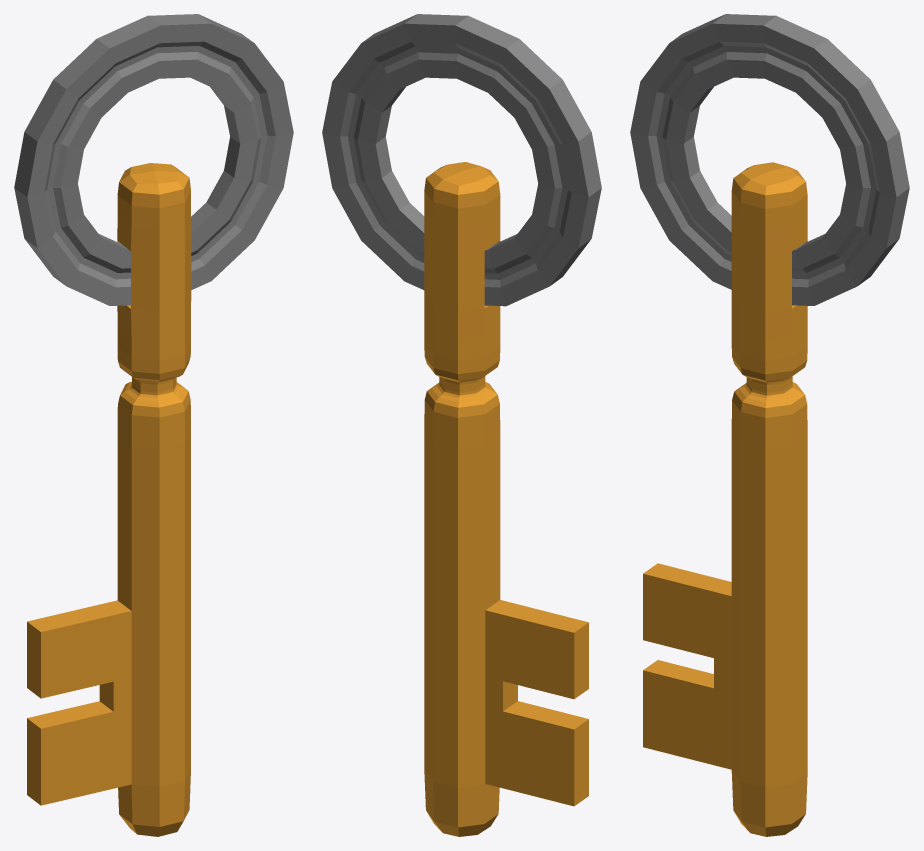
Rendered from key 1.fbx.
3 views of the same model, side by side, from view 1: azimuth 30°, elevation 25°; view 2: azimuth 150°, elevation 25°; view 3: azimuth 330°, elevation 25° (orthographic).
Parts seen in each view (by area): view 1: 円柱; view 2: 円柱; view 3: 円柱.
Boxes of the visible parts, left/top/right/bottom form: 円柱: left=14, top=14, right=293, bottom=836; 円柱: left=322, top=14, right=601, bottom=836; 円柱: left=630, top=14, right=909, bottom=836.
Size of the model in its own units: 314 by 910 by 71.51.
